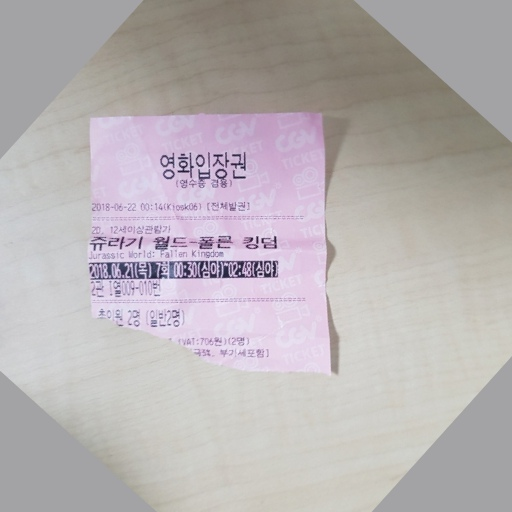Paper_2: (80, 99, 351, 372)
